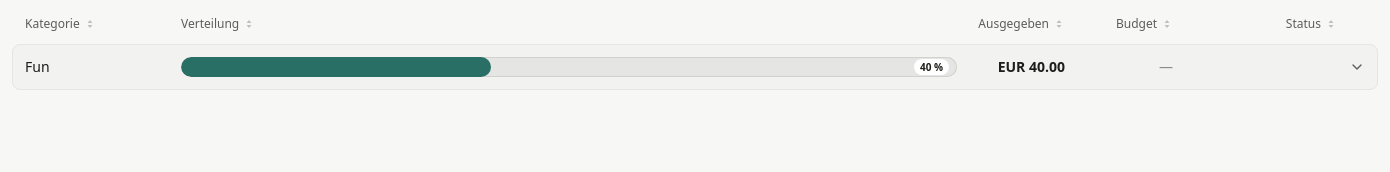
Test case: CategoryBreakdown › shows an empty hint when expanding a category without transactions
The image size is (1390, 172).
Step 1. Click the button "Fun 40 %" → click(695, 67), box [13,45,1377,89]
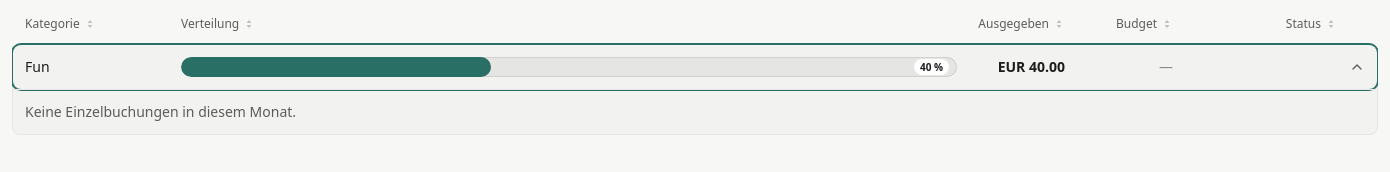
Expected: the text "Keine Einzelbuchungen in diesem Monat." is shown, [25,102,296,121]
